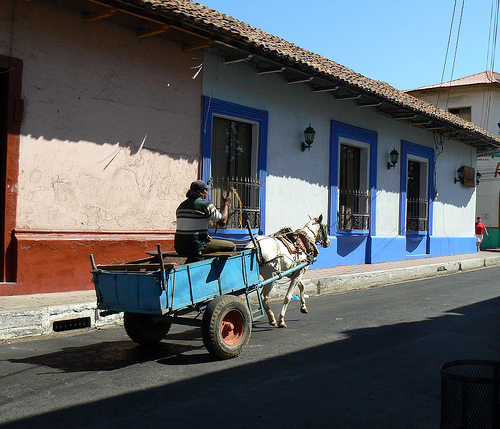horse: (251, 213, 330, 328)
